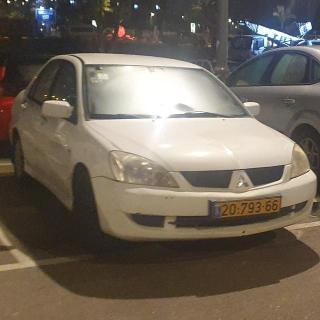LicensePlate: (219, 196, 283, 218)
